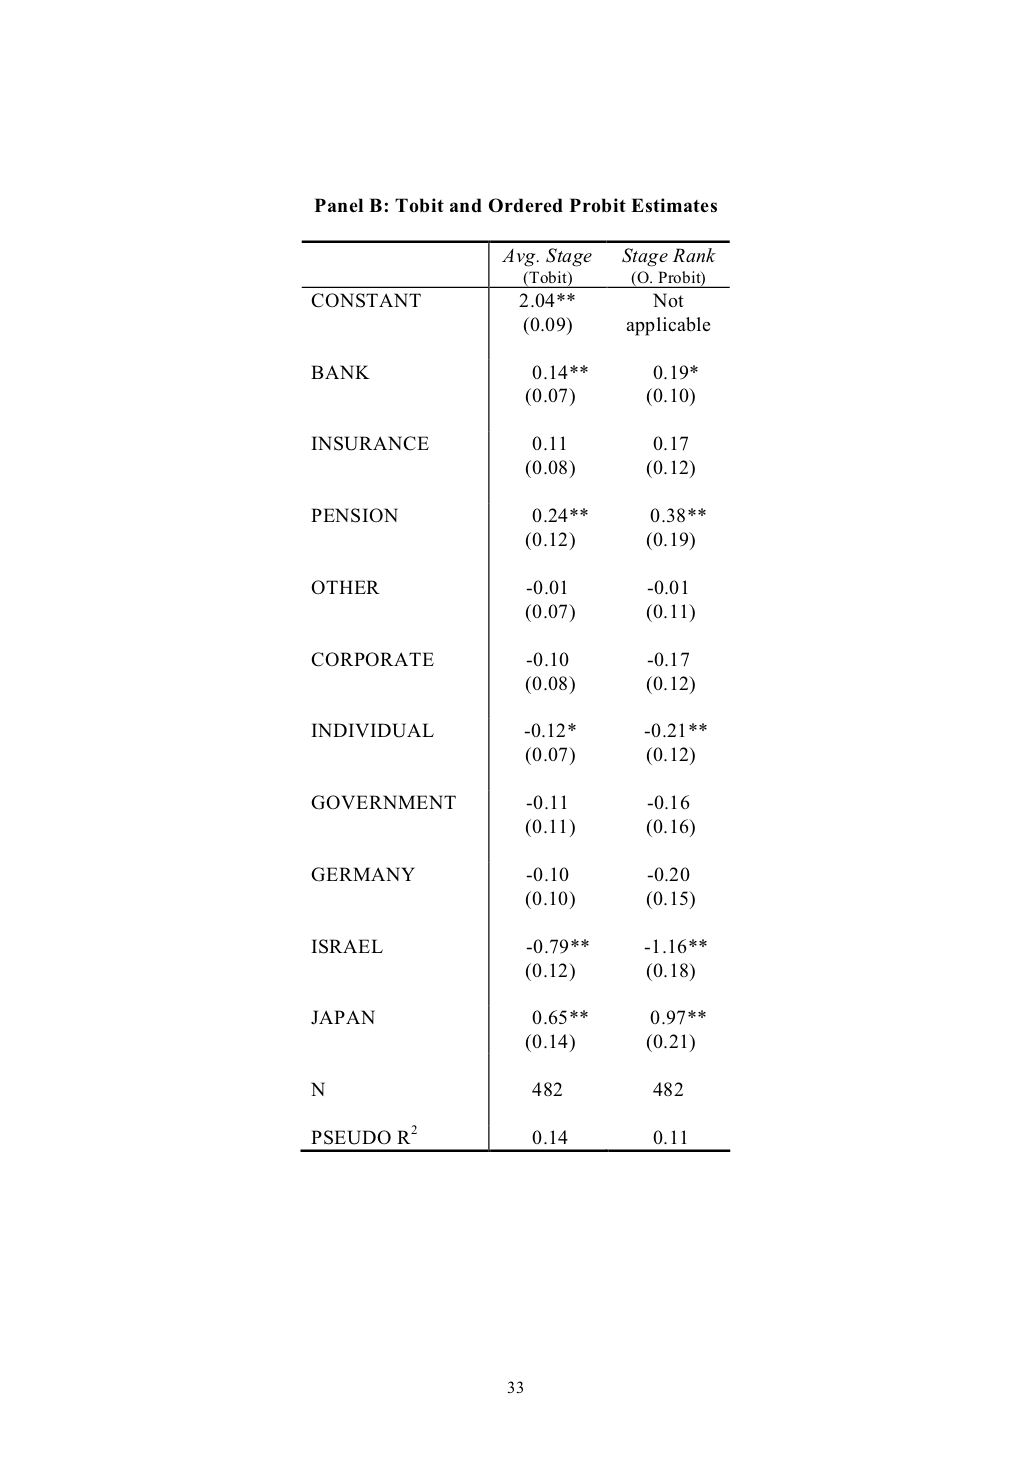Table: (300, 239, 730, 1152)
